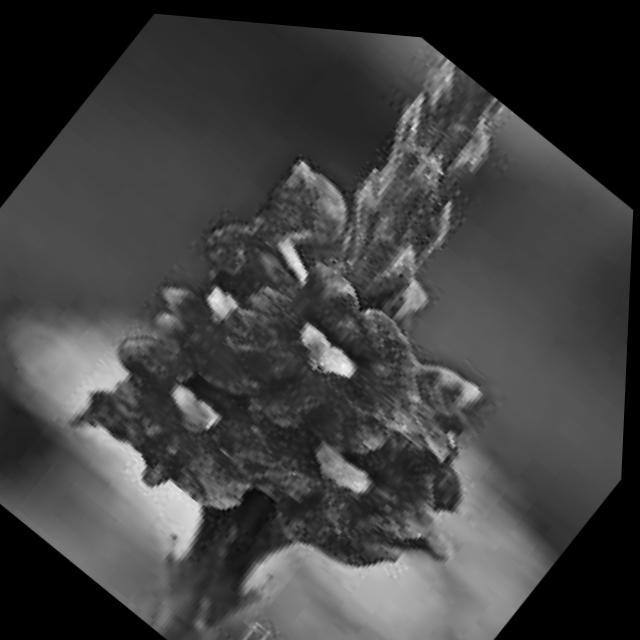Flower: (53, 246, 367, 562), (220, 343, 504, 624), (195, 212, 478, 487)
